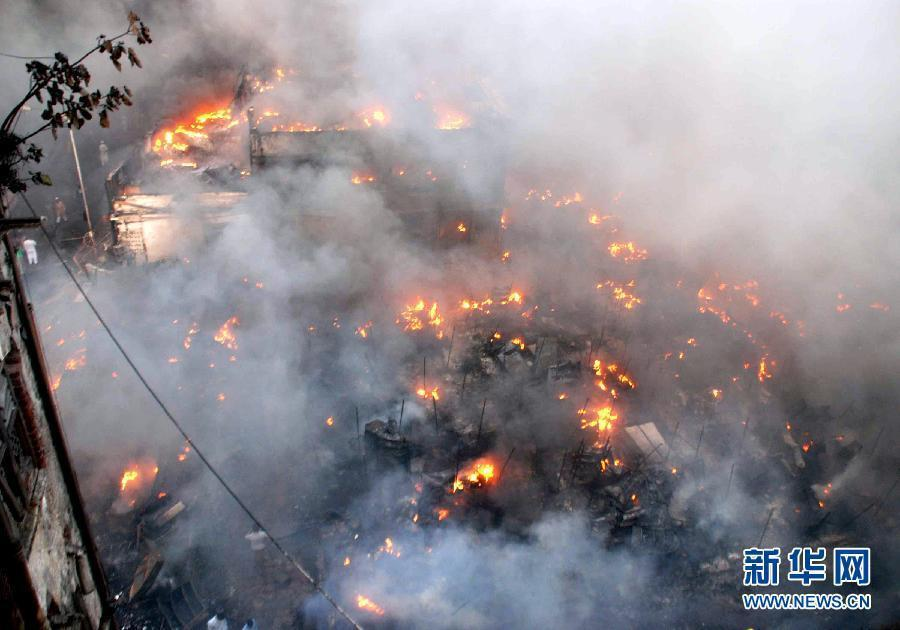fire: (150, 72, 484, 160), (523, 169, 653, 307), (691, 255, 828, 380), (387, 280, 529, 346), (579, 340, 642, 485), (108, 434, 194, 507), (178, 309, 265, 377), (442, 441, 504, 524), (40, 316, 94, 389)
